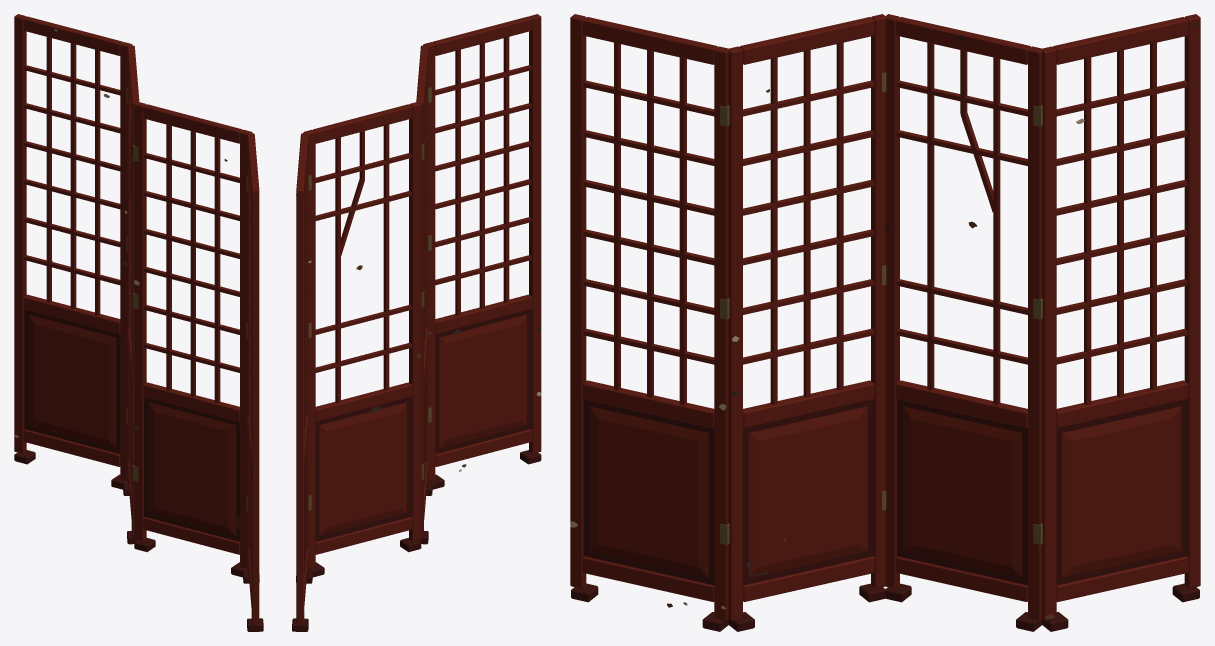
File: screen_vermilion.glb
3 renders of one model, left to right at view 1: azimuth 30°, elevation 25°; view 2: azimuth 150°, elevation 25°; view 3: azimuth 270°, elevation 25°, orthographic. The views are drawn at different scales.
Visible parts, largest first — view 1: teil0, teil1, teil7; view 2: teil0, teil1, teil7; view 3: teil0, teil1, teil7.
Part boxes in pixels (x1=…): teil0: x1=14, y1=14, x2=259, y2=625; teil1: x1=14, y1=309, x2=263, y2=631; teil7: x1=126, y1=88, x2=247, y2=511; teil0: x1=296, y1=14, x2=541, y2=625; teil1: x1=292, y1=309, x2=541, y2=631; teil7: x1=308, y1=87, x2=431, y2=510; teil0: x1=570, y1=14, x2=1200, y2=620; teil1: x1=571, y1=399, x2=1199, y2=631; teil7: x1=720, y1=72, x2=1042, y2=544.
Bounding box in the file's own units: 0.2746 × 1.8 × 1.78.
